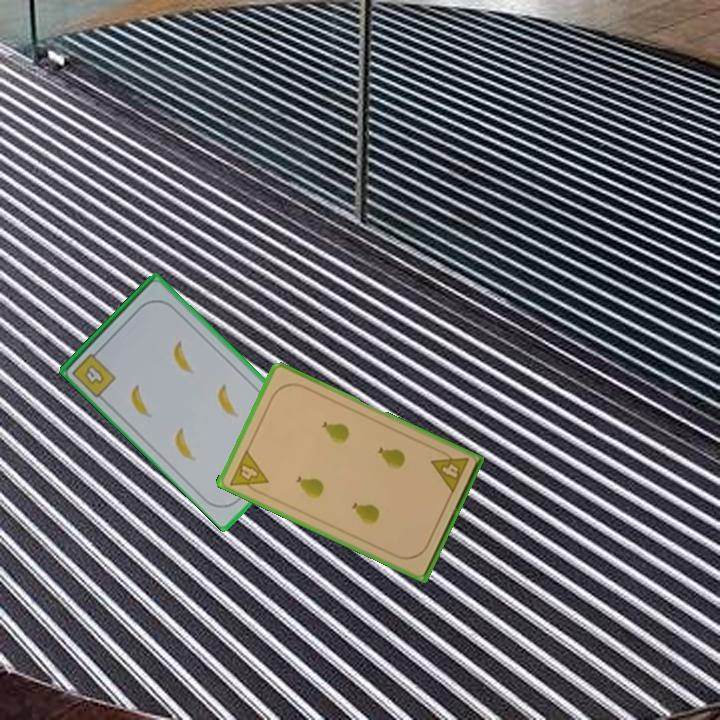4b: (68, 344, 119, 400)
4p: (226, 446, 271, 498), (427, 446, 472, 497)
